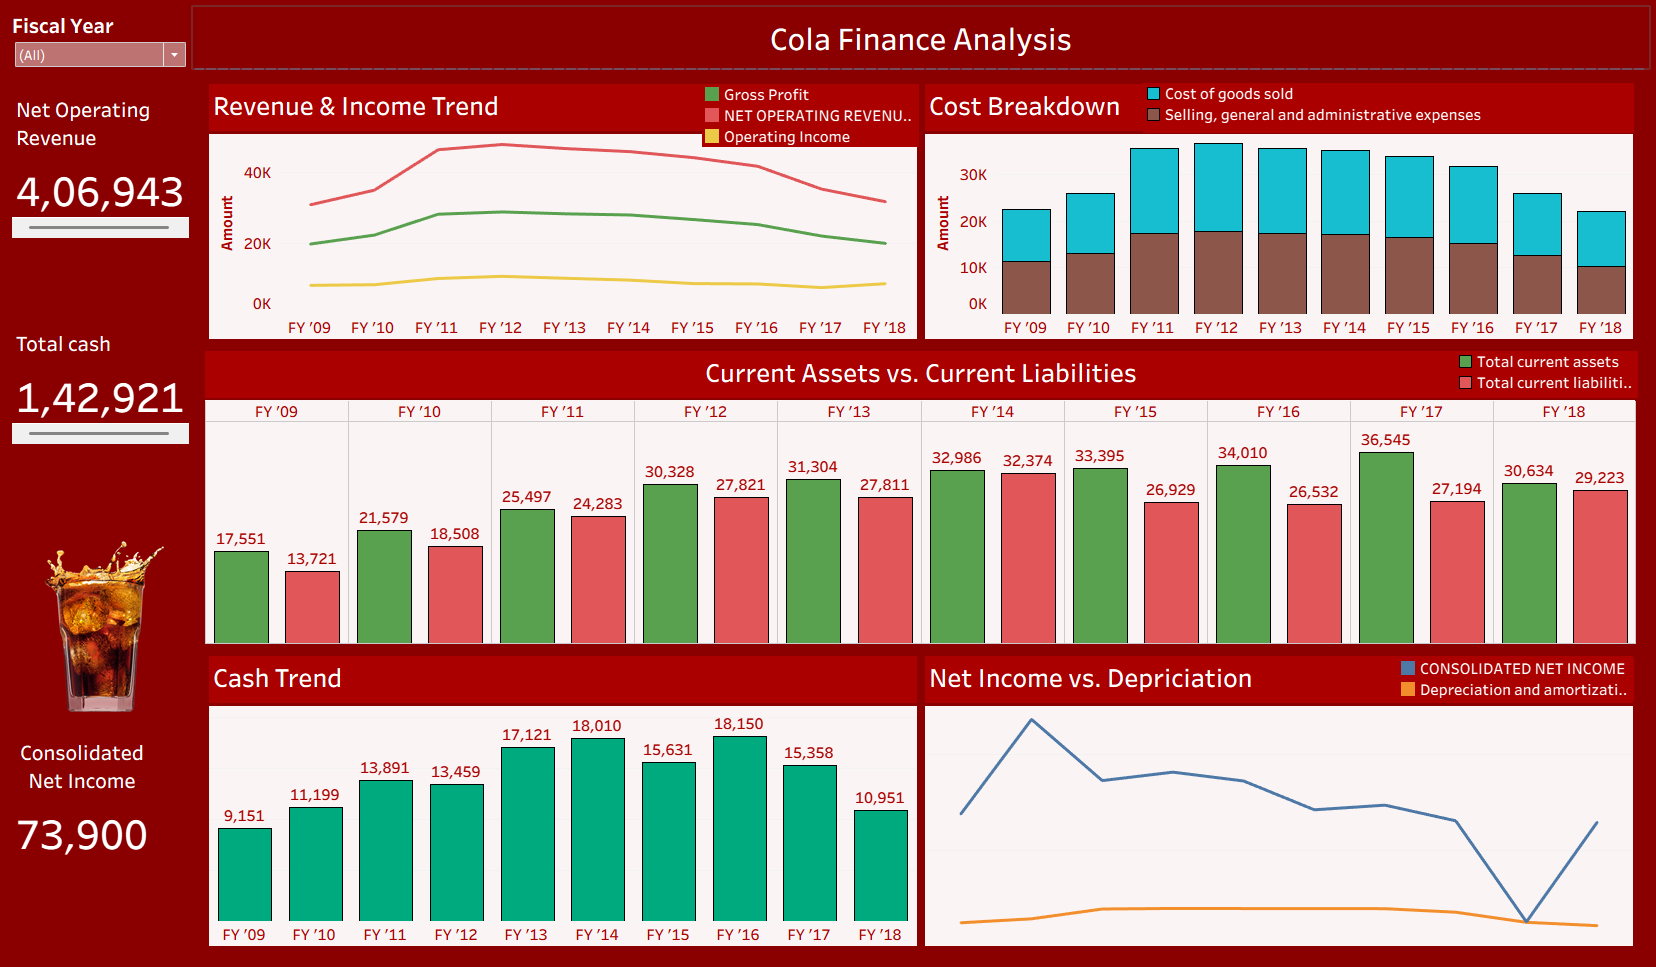

This screenshot's page, from the dashboard's own definition file:
{"tool":"tableau","page":{"name":"Dashboard 1","canvas":[1000,1000],"units":"permille","ordinal":0},"visuals":[{"type":"filter","title":"KPI-Revenue","param":"[federated.0i2y0lp0hrpu4n1cdk6q908dydxq].[none:Fiscal_Year:nk]","box":[4.2,8.2,112,82.4]},{"type":"text","box":[116.2,8.2,879.5,62.8]},{"type":"worksheet","title":"PL1","mark":"Line","rows":["Amount"],"cols":["Fiscal_Year"],"box":[122.4,83.4,433.8,270.9]},{"type":"worksheet","title":"PL2","mark":"Automatic","rows":["Amount"],"cols":["Fiscal_Year"],"box":[556.1,83.4,433.3,270.9]},{"type":"legend","title":"PL2","param":"[federated.0i2y0lp0hrpu4n1cdk6q908dydxq].[none:Metric:nk]","box":[689.5,86.5,296.4,51.5]},{"type":"legend","title":"PL1","param":"[federated.0i2y0lp0hrpu4n1cdk6q908dydxq].[none:Metric:nk]","box":[423.6,87.5,131.2,64.9]},{"type":"worksheet","title":"KPI-Revenue","mark":"Automatic","box":[4.2,90.6,112,241]},{"type":"worksheet","title":"KPI-Cash","mark":"Automatic","box":[4.2,331.6,112,218.3]},{"type":"worksheet","title":"BS2","mark":"Automatic","rows":["Amount"],"cols":["Fiscal_Year","Metric"],"box":[120.5,358.4,871.1,310.5]},{"type":"legend","title":"BS2","param":"[federated.1ib8j2c1bwl5nn12r5wzs11co142].[none:Metric:nk]","box":[878.1,362.5,110.7,48.4]},{"type":"image","param":"Image/coca-cola-png-10996.png","box":[4.2,550,112,202.9]},{"type":"worksheet","title":"BS1","mark":"Automatic","rows":["Amount"],"cols":["Fiscal_Year"],"box":[122.4,672.5,433.8,306.9]},{"type":"worksheet","title":"CF1","mark":"Line","rows":["Amount"],"cols":["Fiscal_Year"],"box":[556.1,672.5,433.3,306.9]},{"type":"legend","title":"CF1","param":"[federated.1mad1rn06v45bo151jrqi1love59].[none:Metric:nk]","box":[843.8,678.7,142.5,43.2]},{"type":"worksheet","title":"KPI-Net Income","mark":"Automatic","box":[4.2,752.8,112,238.9]}]}

Visuals, with their boxes on the dashboard's canvas, which has no fixed pixel size, in thousandths of its width and height (x1, y1, x2, y2). These are canvas units, not pixel positions in the 1656x967 screenshot, which may show the page scaled, cropped or inside an application window:
"KPI-Revenue" filter: crop(4, 8, 116, 91)
text: crop(116, 8, 996, 71)
"PL1" worksheet (Line marks): crop(122, 83, 556, 354)
"PL2" worksheet: crop(556, 83, 989, 354)
"PL2" legend: crop(690, 86, 986, 138)
"PL1" legend: crop(424, 88, 555, 152)
"KPI-Revenue" worksheet: crop(4, 91, 116, 332)
"KPI-Cash" worksheet: crop(4, 332, 116, 550)
"BS2" worksheet: crop(120, 358, 992, 669)
"BS2" legend: crop(878, 362, 989, 411)
image: crop(4, 550, 116, 753)
"BS1" worksheet: crop(122, 672, 556, 979)
"CF1" worksheet (Line marks): crop(556, 672, 989, 979)
"CF1" legend: crop(844, 679, 986, 722)
"KPI-Net Income" worksheet: crop(4, 753, 116, 992)
